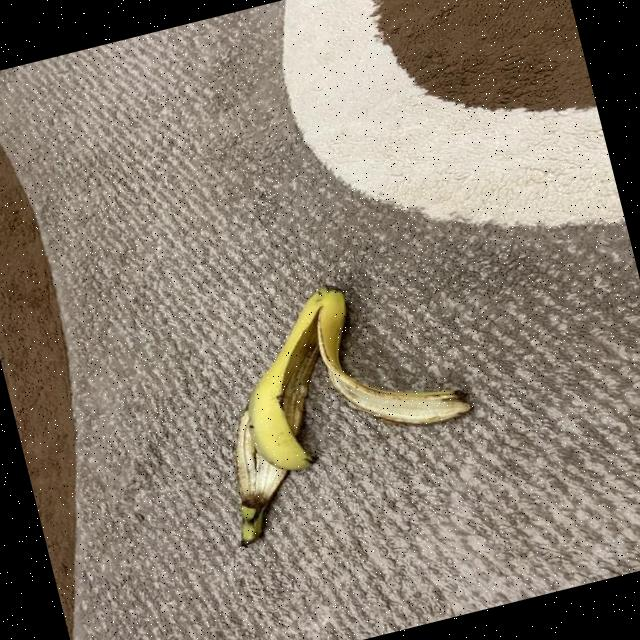banana-peel: (183, 255, 492, 548)
